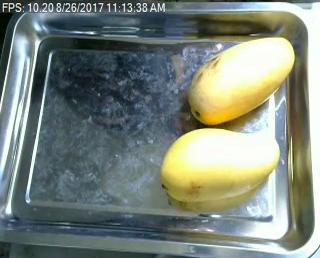Mango: (184, 32, 296, 126), (156, 126, 283, 206)
